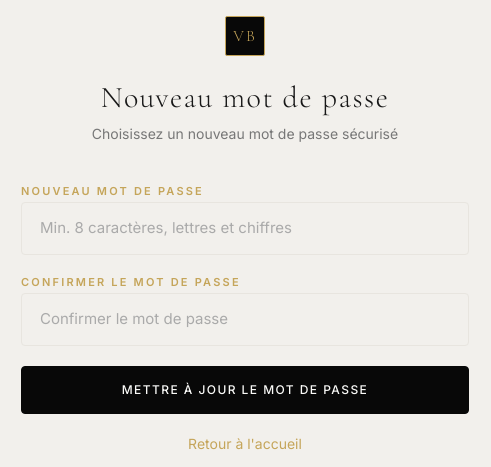
Test: Page de changement du mot de passe › établit la session depuis le lien avant de changer le mot de passe
Type "StrongPass1!" into the password field labelled "Nouveau mot de passe" at (245, 229), box x1=21 y1=202 x2=469 y2=255
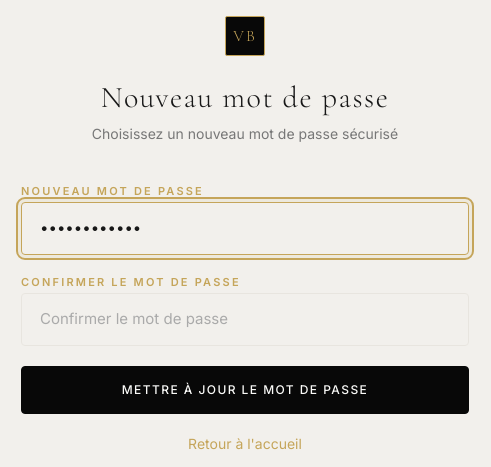
Type "StrongPass1!" into the password field labelled "Confirmer le mot de passe" at (245, 320), box x1=21 y1=294 x2=469 y2=346
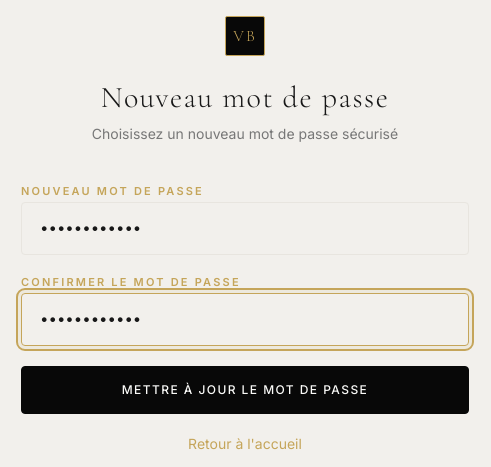
Click the button "Mettre à jour le mot de passe" at (245, 390), box x1=21 y1=366 x2=469 y2=414
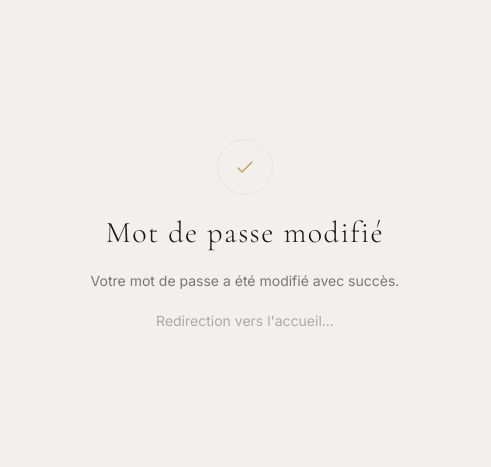
Result: the heading "Mot de passe modifié" is shown at x1=106 y1=214 x2=384 y2=251
